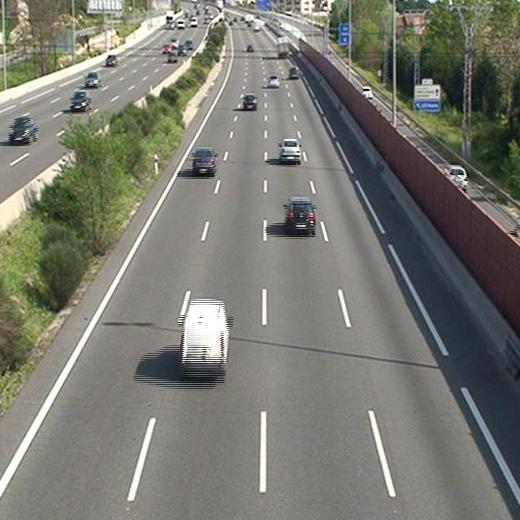car: (285, 198, 315, 234), (192, 148, 217, 177), (279, 139, 300, 162), (242, 93, 258, 109), (267, 74, 280, 87), (289, 67, 300, 79)
van: (179, 300, 230, 377)
